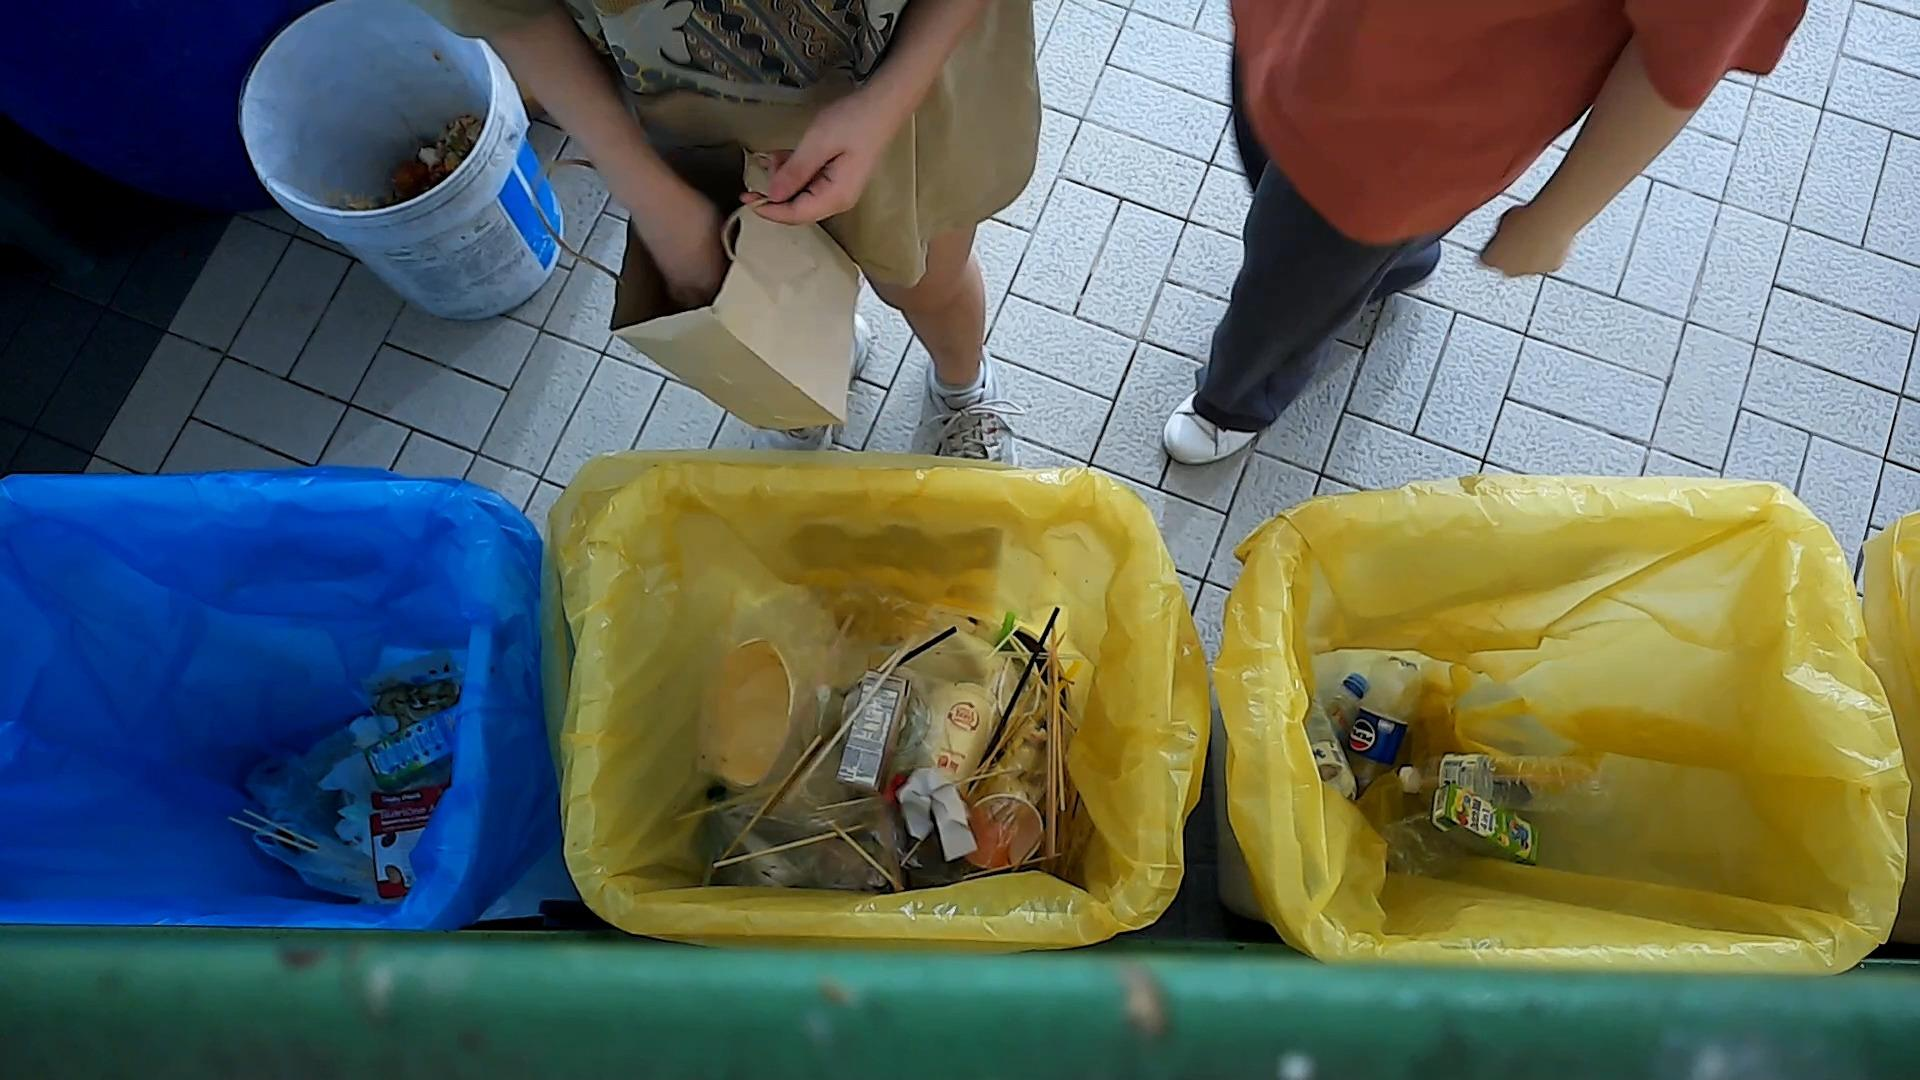filled plastic bag: (225, 807, 419, 905)
milk carton: (831, 647, 915, 795), (355, 691, 462, 800), (1431, 773, 1545, 866)
paper bag: (564, 149, 887, 440)
plastic bottle: (1395, 753, 1625, 822), (1342, 653, 1428, 798)
snack packaging: (367, 783, 450, 901)
sticks: (963, 629, 1067, 803), (719, 732, 823, 862), (708, 819, 874, 873), (815, 769, 1000, 812), (819, 819, 907, 889), (1046, 625, 1067, 858)
straw: (787, 632, 918, 802), (992, 605, 1062, 742)
tissue paper: (895, 764, 981, 865)
zero waste cup: (906, 663, 1006, 803), (960, 764, 1047, 870)
